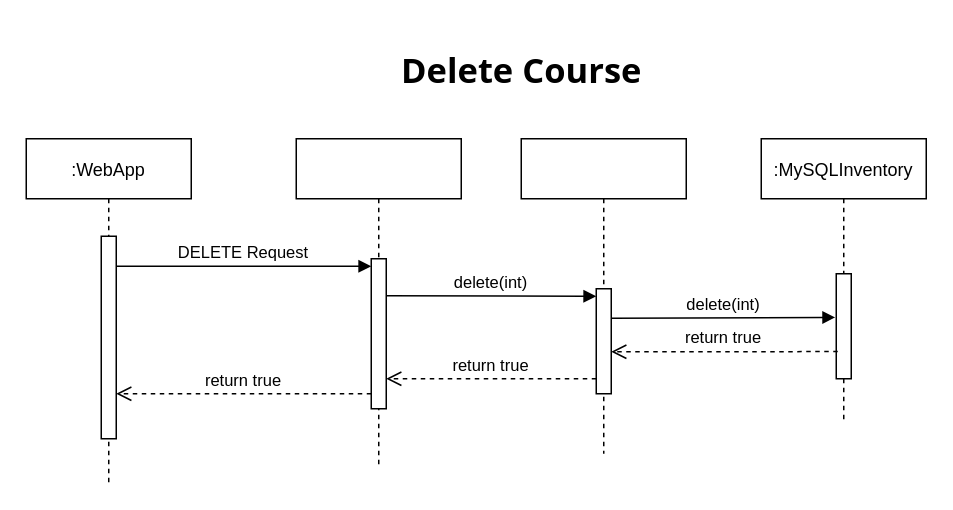
Image size: 953x510. Some labels were removed from this diagram. The shapes that lost their labels are listed below. From the top down, each one's box as (x1, y1, x2, y2) in pixels, then its label:
(295, 137, 461, 469): :CourseController
(520, 137, 686, 454): :CourseService
